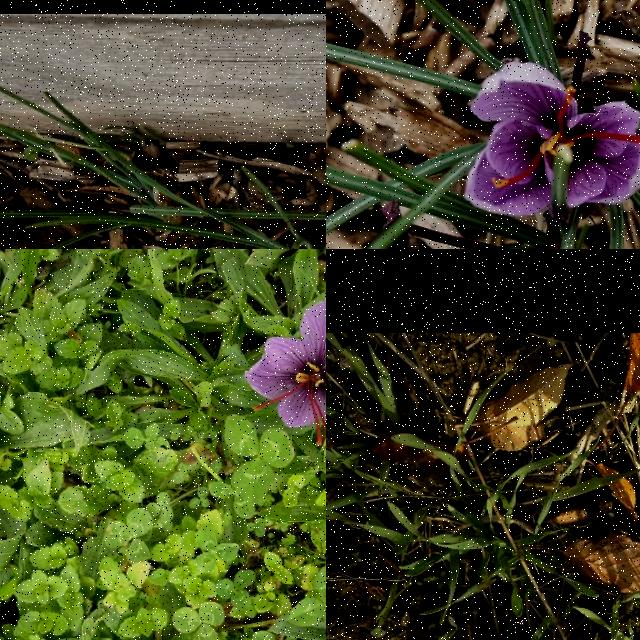flower: (465, 64, 640, 218), (243, 296, 326, 447)
